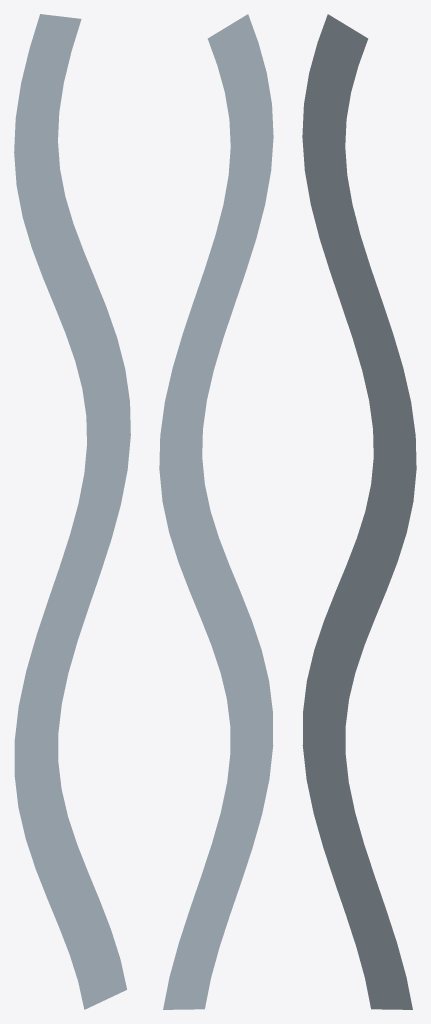
The model's file is Zhongli_PlanetBefall_MeteorDescendingTail2.fbx.
The picture shows the model from 3 angles, left to right: view 1: azimuth 30°, elevation 25°; view 2: azimuth 210°, elevation 25°; view 3: azimuth 330°, elevation 25°; orthographic projection. The views are drawn at different scales.
Parts seen in each view (by area): view 1: PART_MeteorDescendingTail2; view 2: PART_MeteorDescendingTail2; view 3: PART_MeteorDescendingTail2.
Boxes of the visible parts, x1,y1,x2,y2 form: PART_MeteorDescendingTail2: (14, 14, 130, 1009); PART_MeteorDescendingTail2: (159, 14, 273, 1009); PART_MeteorDescendingTail2: (302, 14, 416, 1009).
Size of the model in its own units: 31.95 by 263 by 4.29e-05.
